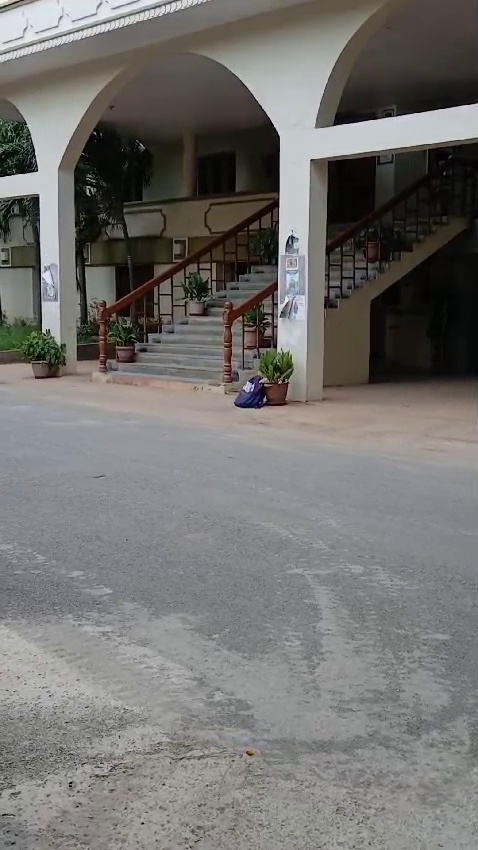bag: (235, 374, 258, 422)
